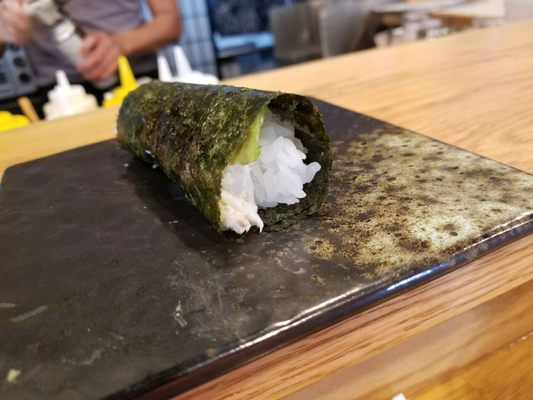curry: (11, 12, 532, 389)
